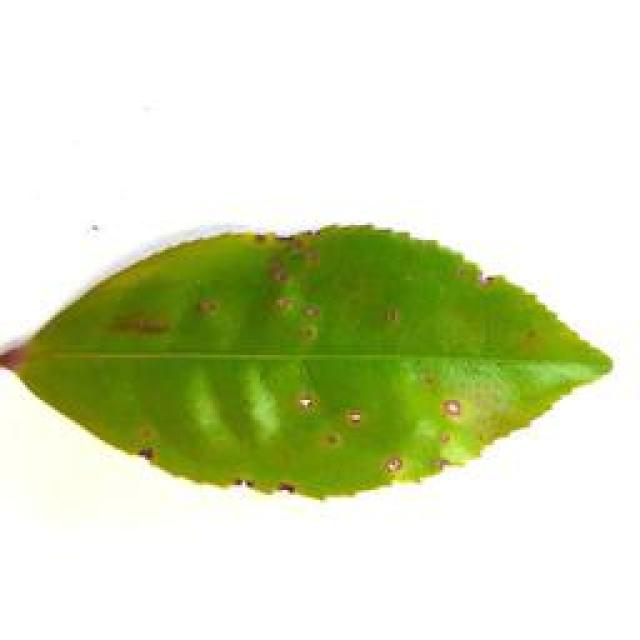Helopeltis: (0, 228, 635, 500)
